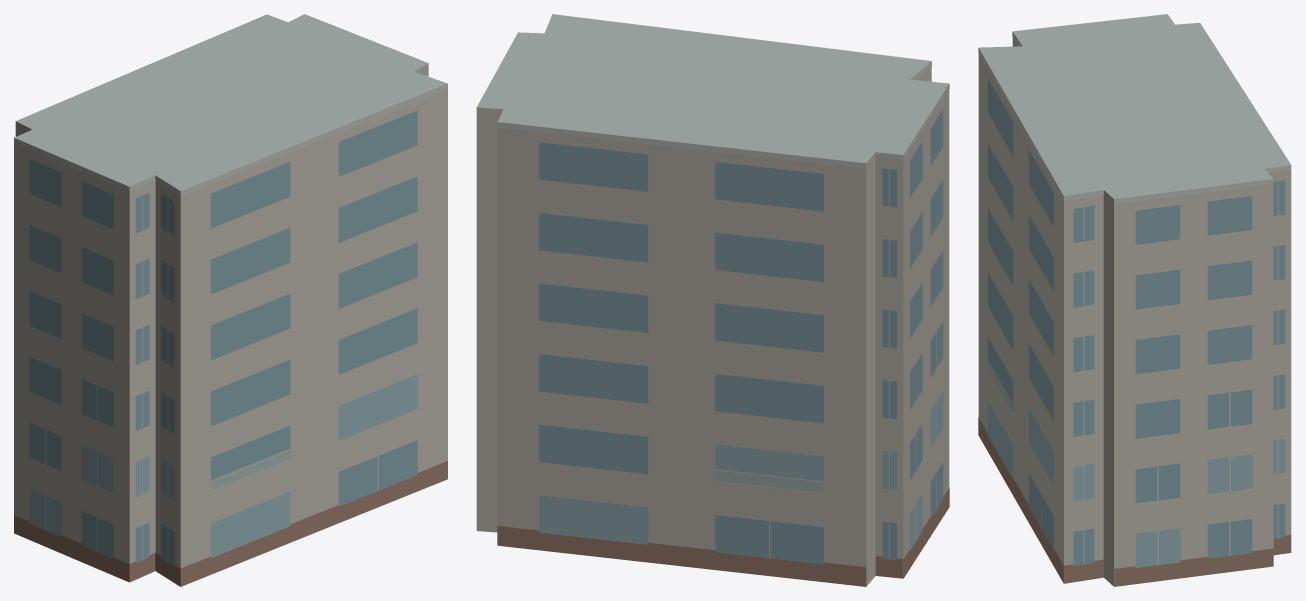
Rendered from survey-upis-32569544.glb.
The picture shows the model from 3 angles, left to right: view 1: azimuth 30°, elevation 25°; view 2: azimuth 150°, elevation 25°; view 3: azimuth 270°, elevation 25°; orthographic projection. The views are drawn at different scales.
Visible parts, largest first — view 1: survey-upis-32569544.tmp; view 2: survey-upis-32569544.tmp; view 3: survey-upis-32569544.tmp.
Boxes of the visible parts, box(x1,y1,x2,y2) form: survey-upis-32569544.tmp: box(14, 14, 447, 586); survey-upis-32569544.tmp: box(476, 14, 949, 586); survey-upis-32569544.tmp: box(978, 14, 1291, 586).
Size of the model in its own units: 18.76 by 18.3 by 13.4.
